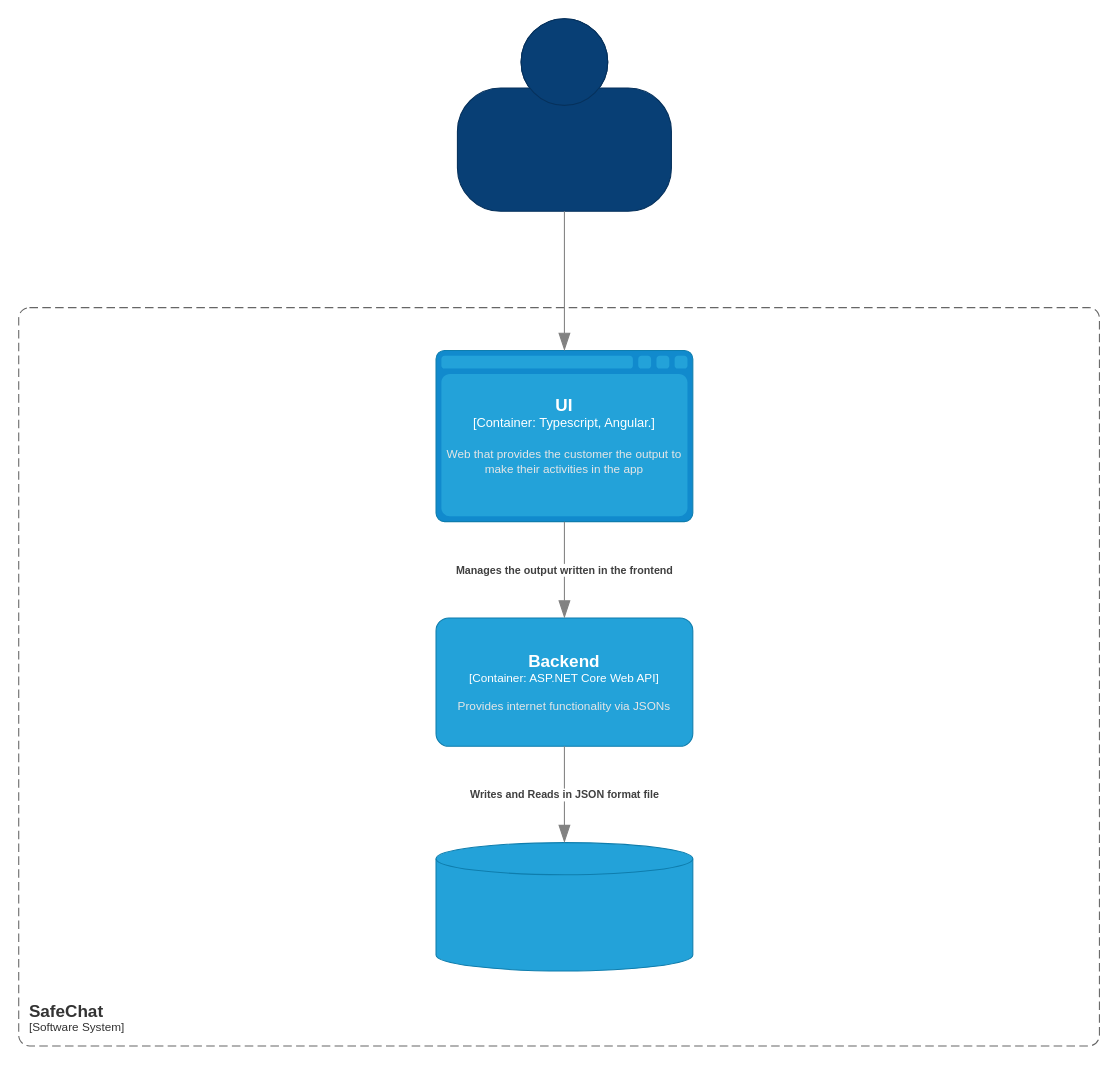
Image size: 1118x1065. Some labels were removed from this diagram. Here are the shapes that lost their labels. From the top down, the centre of each, then its label:
At [563,114]: "Customer [Person] Person that can see the chat and message with their contacts.".
At [564,906]: "Database [Container: Mongo DB] Database that storages data in JSON format".
